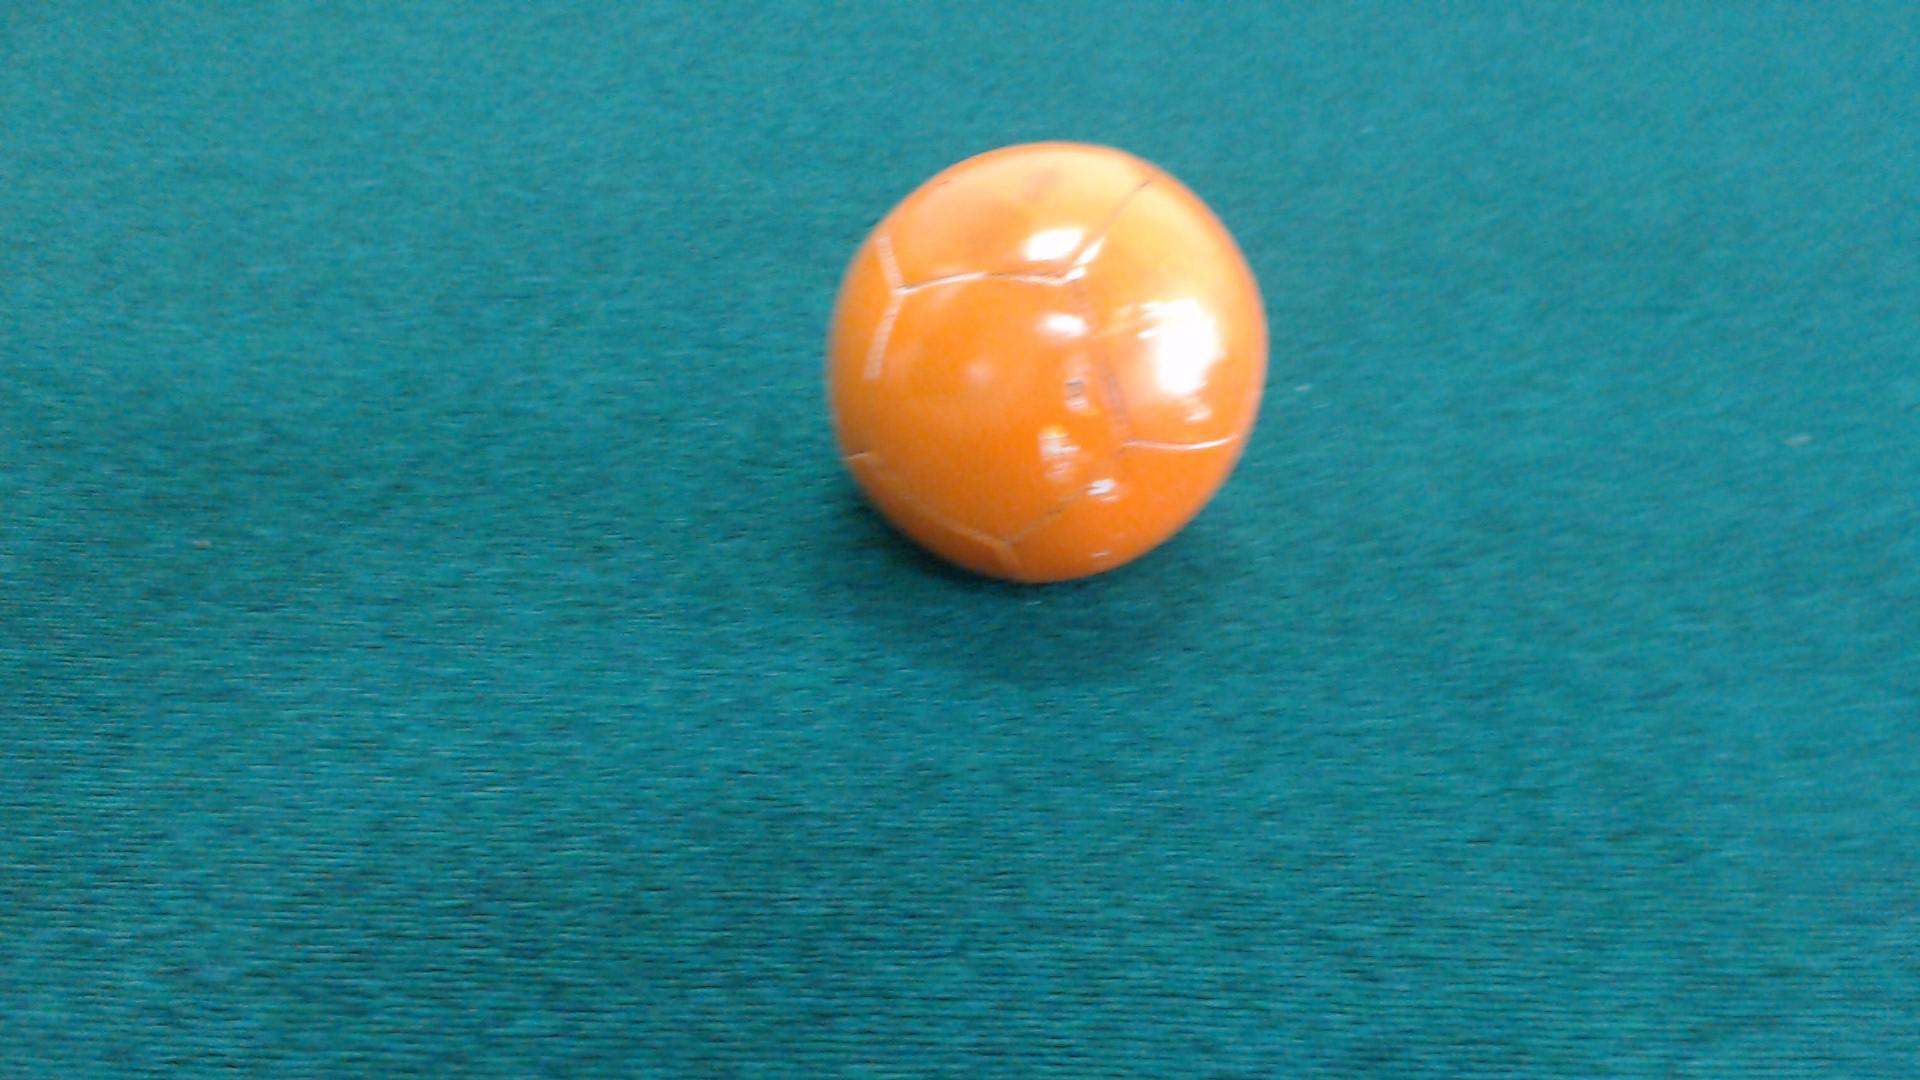bola: (815, 123, 1274, 600)
